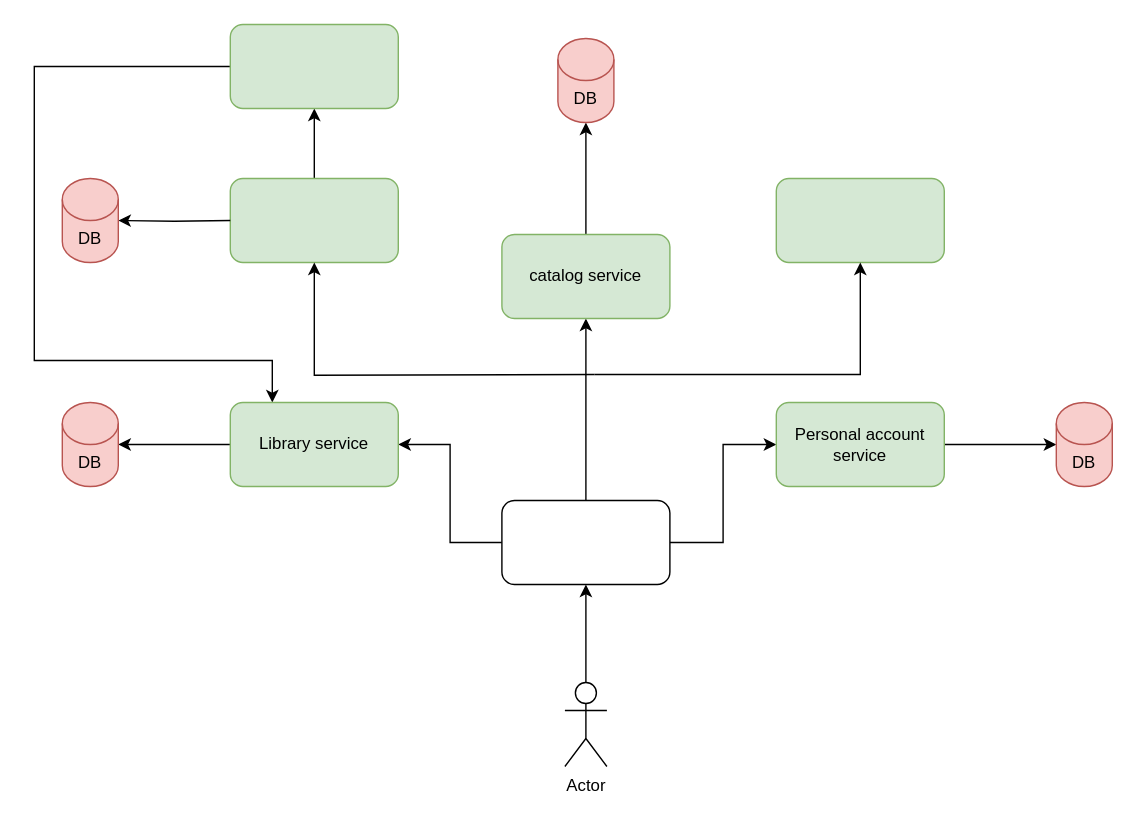
The diagram is 1137 pixels wide and 820 high, and some of its shapes have lost their labels. Each missing label, with the centre of its shape:
"cart service" belongs at point 313,219.
"Games Store" belongs at point 585,541.
"notification service" belongs at point 859,219.
"payment service" belongs at point 313,65.
